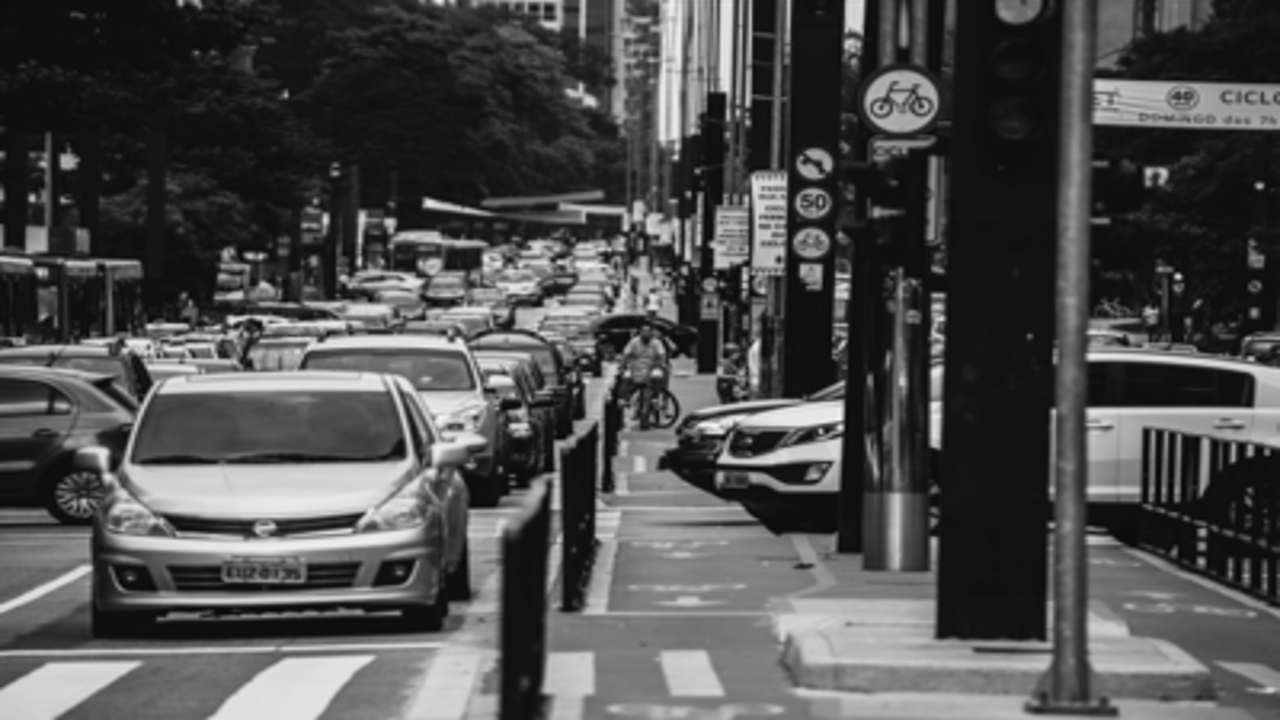license: (211, 552, 310, 589), (720, 466, 757, 498)
